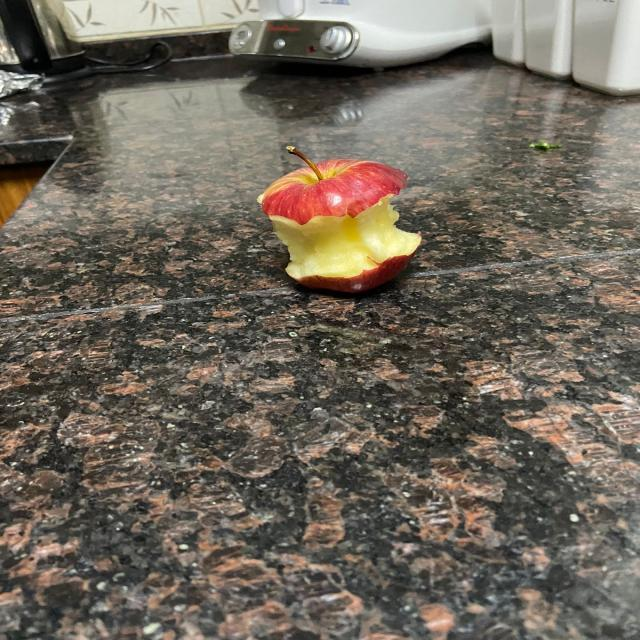apple: (249, 142, 426, 294)
